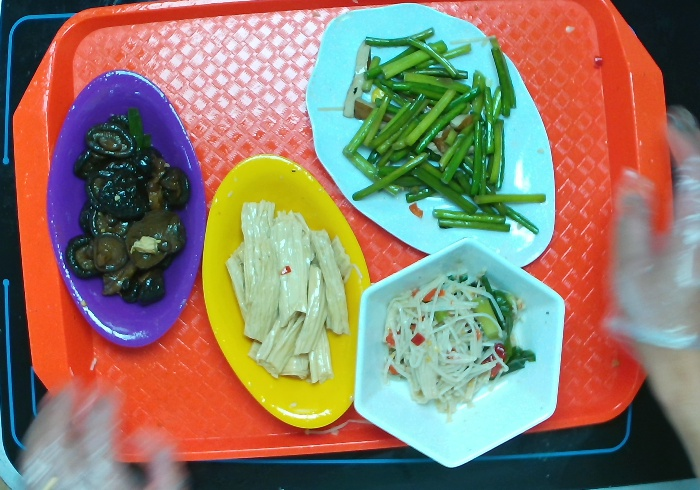RJxy-Bai_Ye_Pan: (301, 3, 558, 273)
RJxy-Fen_Hong_Tuo_Yuan: (43, 68, 210, 351)
RJxy-Huang_Se_Tuo_Yuan: (202, 151, 376, 432)
RJxy-Liu_Jiao_Wan: (352, 236, 568, 469)
